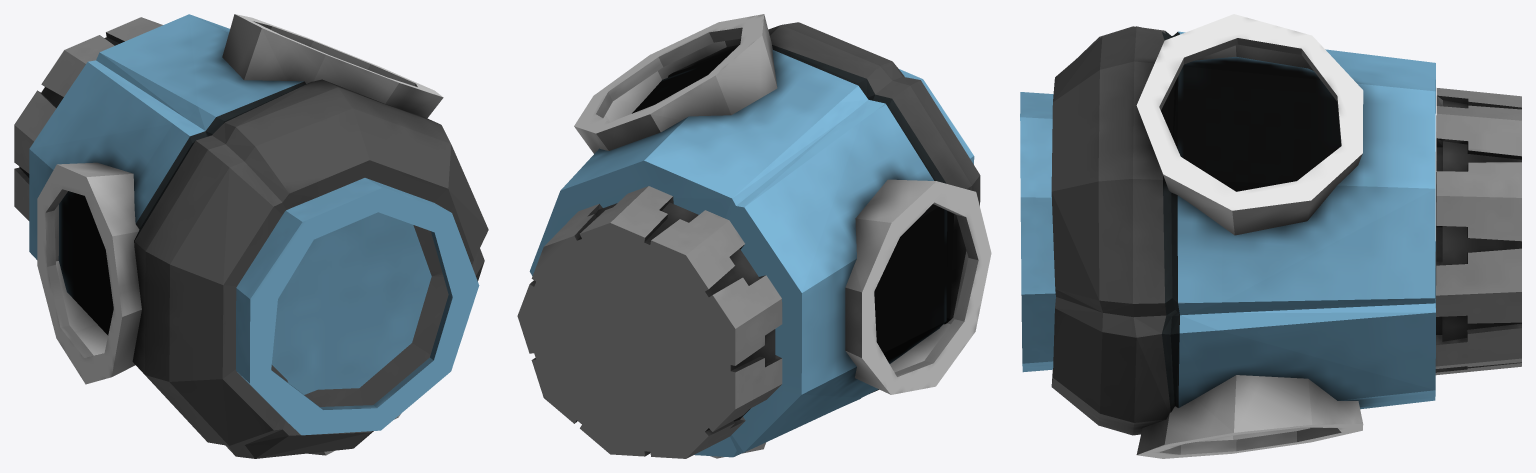
File: PowerupCrate_V2.fbx
3 renders of one model, left to right at view 1: azimuth 30°, elevation 25°; view 2: azimuth 150°, elevation 25°; view 3: azimuth 270°, elevation 25°, orthographic. The views are drawn at different scales.
Parts seen in each view (by area): view 1: PowerUpCrate2_V2, PowerUpCrate4_V2, PowerUpCrate5_V2, PowerUpCrate3_V2, PowerupCrate_V2; view 2: PowerUpCrate2_V2, PowerupCrate_V2, PowerUpCrate4_V2, PowerUpCrate3_V2, PowerUpCrate5_V2; view 3: PowerUpCrate4_V2, PowerUpCrate3_V2, PowerupCrate_V2, PowerUpCrate5_V2.
Part boxes in pixels (left/top/right/bottom): PowerUpCrate2_V2: left=29, top=60, right=288, bottom=445; PowerUpCrate4_V2: left=96, top=14, right=488, bottom=276; PowerUpCrate5_V2: left=236, top=178, right=479, bottom=435; PowerUpCrate3_V2: left=225, top=248, right=484, bottom=458; PowerupCrate_V2: left=14, top=17, right=162, bottom=220; PowerUpCrate2_V2: left=727, top=76, right=991, bottom=452; PowerupCrate_V2: left=517, top=186, right=782, bottom=458; PowerUpCrate4_V2: left=529, top=14, right=904, bottom=275; PowerUpCrate3_V2: left=694, top=389, right=879, bottom=458; PowerUpCrate5_V2: left=899, top=69, right=974, bottom=164; PowerUpCrate4_V2: left=1051, top=14, right=1435, bottom=317; PowerUpCrate3_V2: left=1051, top=297, right=1435, bottom=458; PowerupCrate_V2: left=1435, top=88, right=1521, bottom=375; PowerUpCrate5_V2: left=1020, top=92, right=1055, bottom=372.
Bounding box in the file's own units: 3.45 × 3.87 × 4.
Materials: 5 (5 with a texture image).
